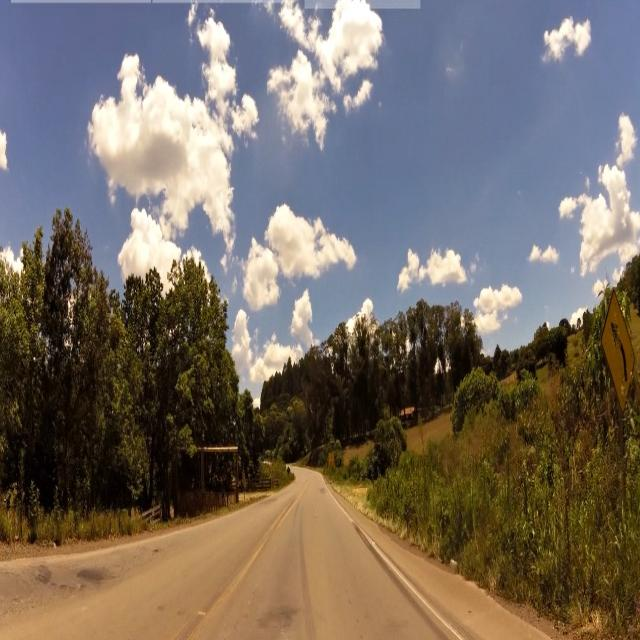A-2a: (597, 286, 640, 414)
